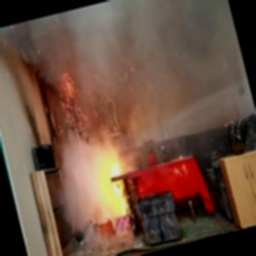fire: (82, 135, 141, 225)
